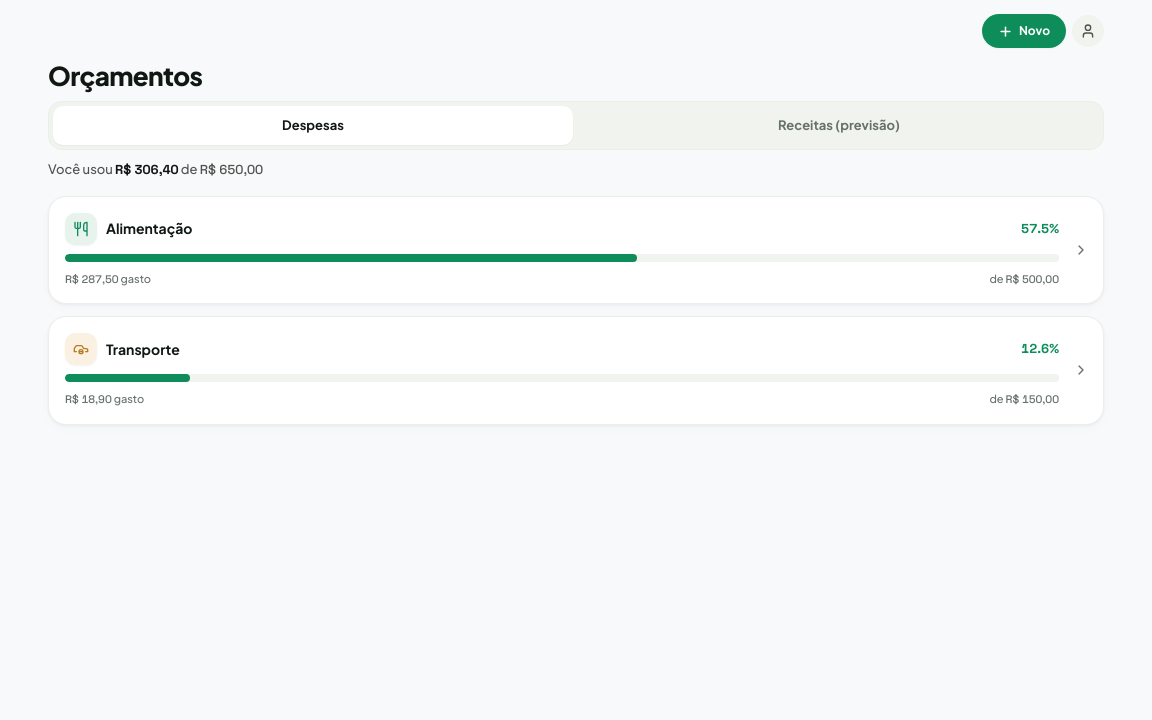
Test: BudgetsPage › new budget flow — type chooser and category selector › choosing receita filters categories to income only
The width and height of the screenshot is (1152, 720).
Click the button "Novo" at (1024,31), box left=982, top=14, right=1066, bottom=48
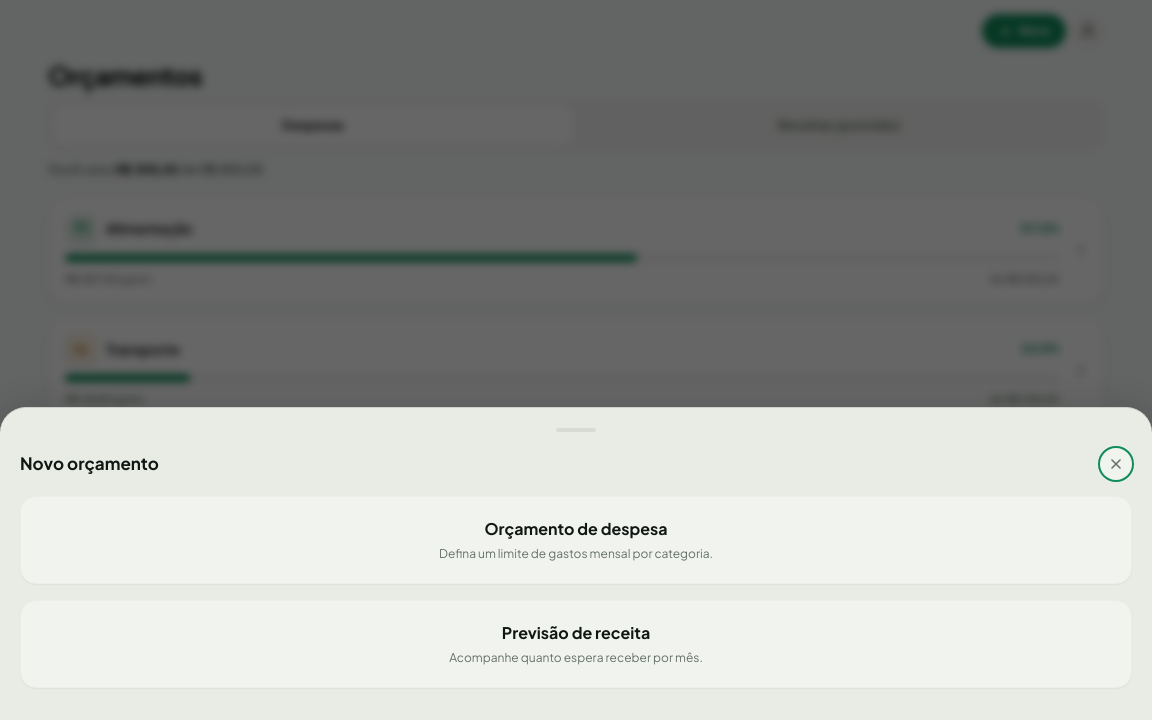
Click the text "Previsão de receita" at (576,632), box left=502, top=622, right=650, bottom=643
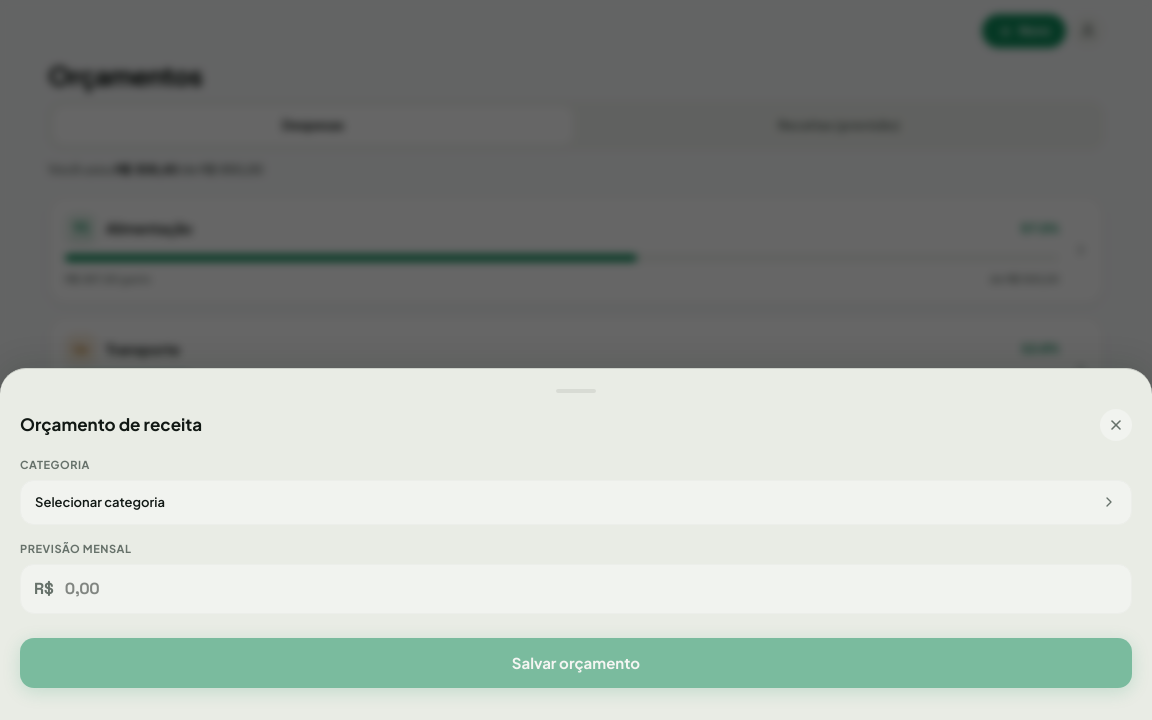
Note: Open category selector
Click the button with test id "category-selector-trigger" at (100,502), box left=20, top=480, right=1132, bottom=525
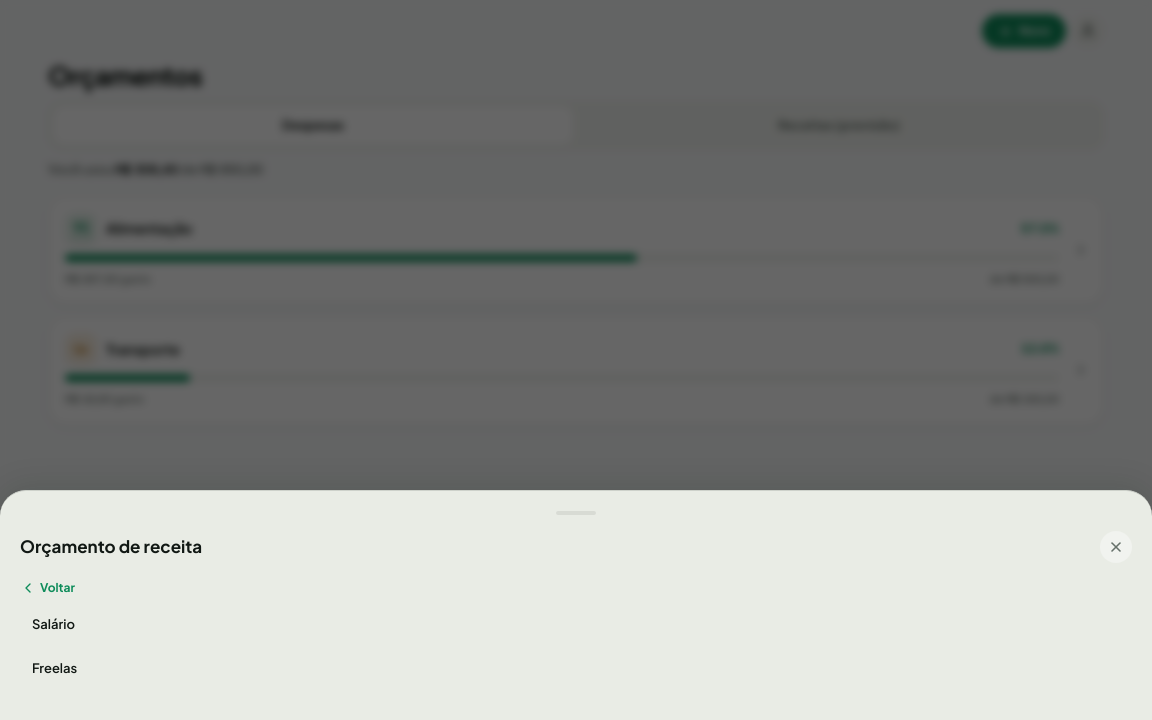
Expected: the button "Salário" is shown, left=20, top=605, right=1132, bottom=644
Expected: the button "Freelas" is shown, left=20, top=648, right=1132, bottom=688
